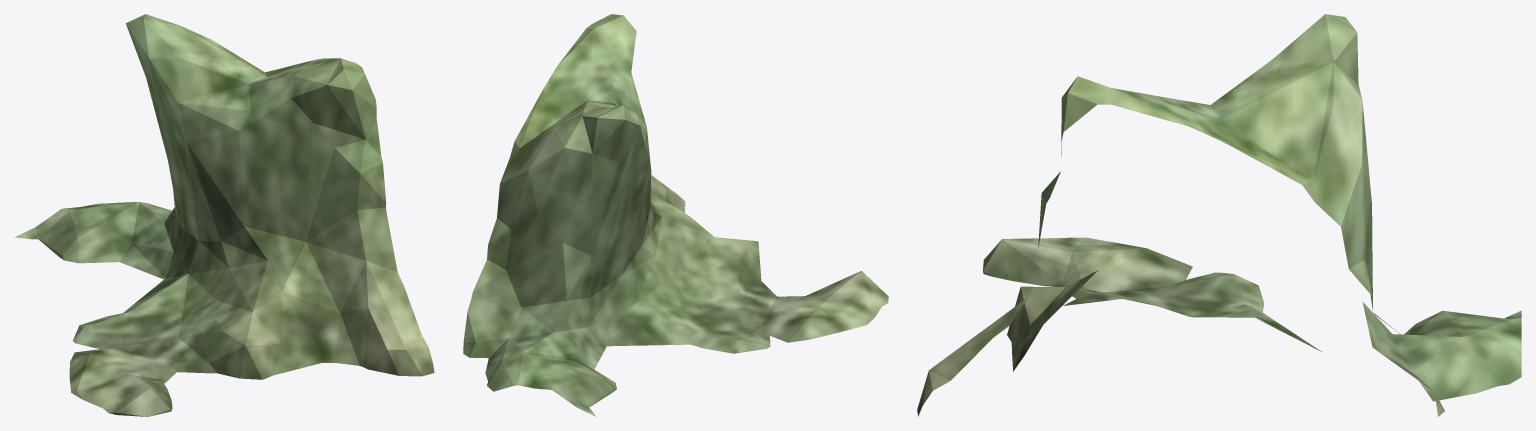
3 views of the same model, side by side, from view 1: azimuth 30°, elevation 25°; view 2: azimuth 150°, elevation 25°; view 3: azimuth 270°, elevation 25° (orthographic). The views are drawn at different scales.
Bounding box in the file's own units: 1.66 × 1.43 × 2.39.
1 material, 1 textured.
